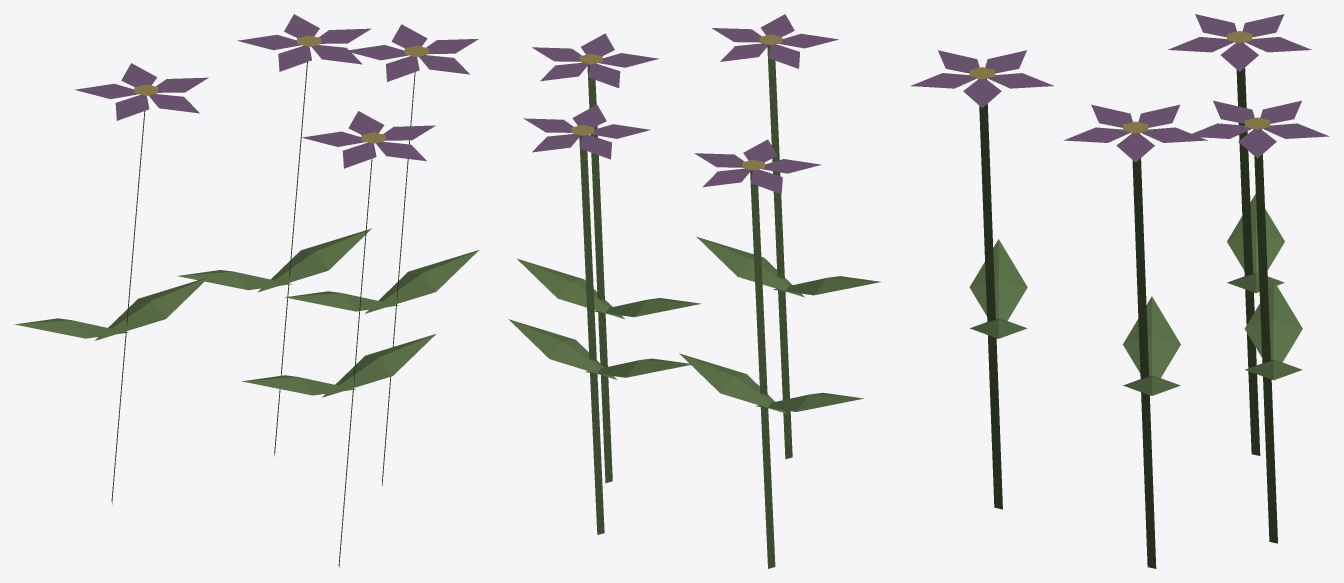
The model's file is ground_flowers_purple.glb.
3 views of the same model, side by side, from view 1: azimuth 30°, elevation 25°; view 2: azimuth 150°, elevation 25°; view 3: azimuth 270°, elevation 25° (orthographic). The views are drawn at different scales.
Parts seen in each view (by area): view 1: ground_flowers_purple; view 2: ground_flowers_purple; view 3: ground_flowers_purple.
Boxes of the visible parts, left/top/right/bottom form: ground_flowers_purple: left=14, top=14, right=478, bottom=567; ground_flowers_purple: left=508, top=14, right=880, bottom=568; ground_flowers_purple: left=911, top=14, right=1329, bottom=568.
Size of the model in its own units: 0.3112 by 0.3094 by 0.2593.
